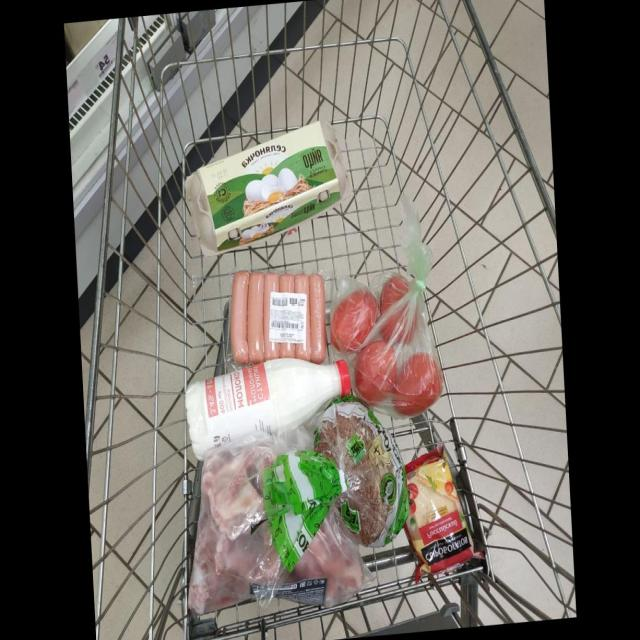Bread: (262, 400, 408, 572)
Cheese: (405, 446, 474, 579)
Eggs: (185, 121, 351, 255)
Meat: (188, 428, 371, 613)
Milk: (185, 357, 351, 458)
Sausages: (230, 269, 326, 364)
Tomatoes: (394, 352, 442, 414), (331, 288, 377, 351), (355, 340, 397, 404), (381, 303, 416, 343), (379, 275, 409, 314)
